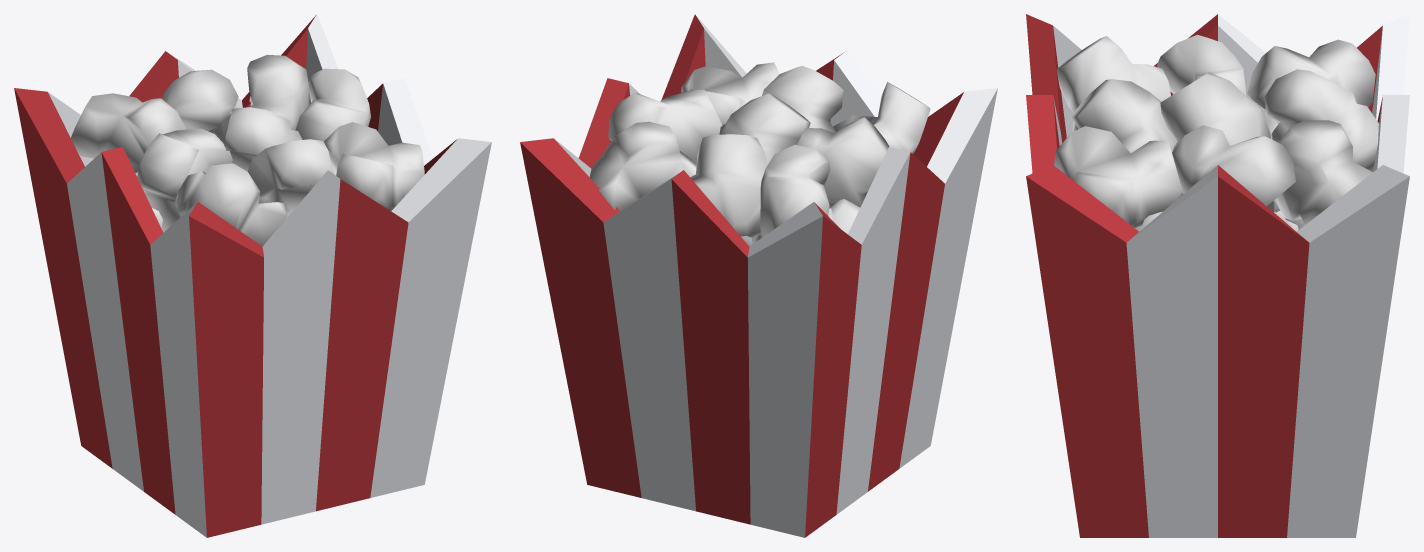
Rendered from Cup.fbx.
3 views of the same model, side by side, from view 1: azimuth 30°, elevation 25°; view 2: azimuth 150°, elevation 25°; view 3: azimuth 270°, elevation 25° (orthographic). The views are drawn at different scales.
Parts seen in each view (by area): view 1: Cup; view 2: Cup; view 3: Cup.
Boxes of the visible parts, x1,y1,x2,y2 form: Cup: (14, 14, 491, 537); Cup: (520, 14, 997, 537); Cup: (1026, 14, 1409, 537).
Size of the model in its own units: 204 by 235 by 204.
